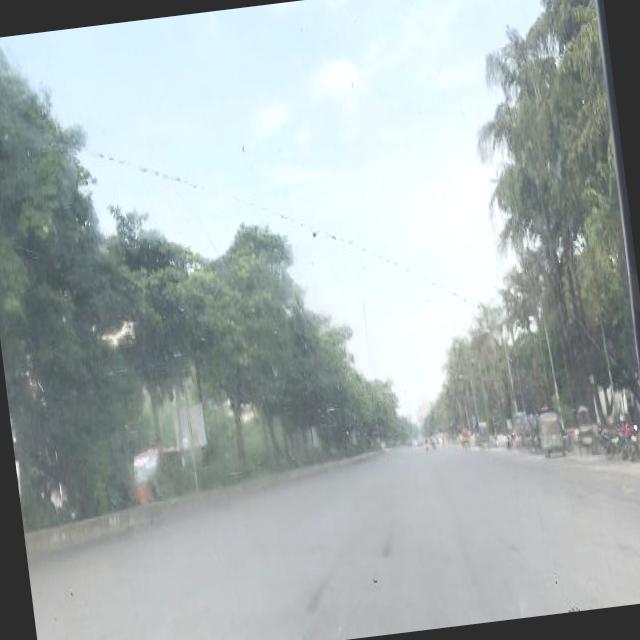motorcycle: (572, 399, 600, 456), (536, 407, 566, 458), (596, 416, 626, 461), (618, 417, 640, 460), (474, 418, 493, 452)
